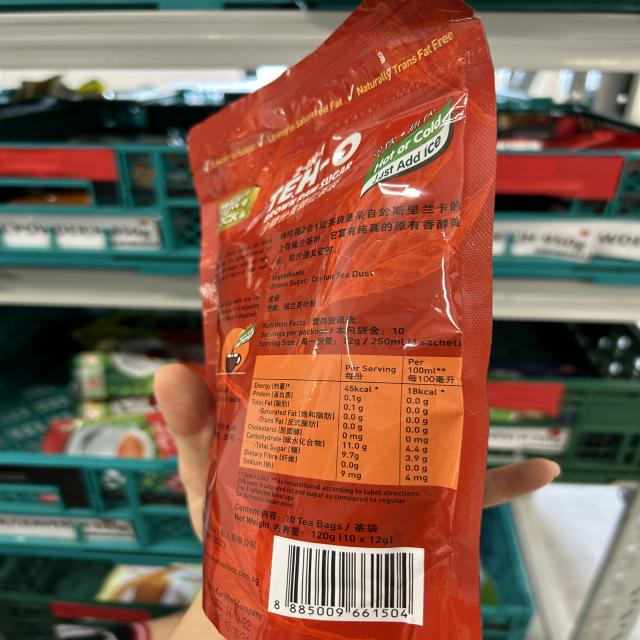object_name: (193, 84, 487, 640)
